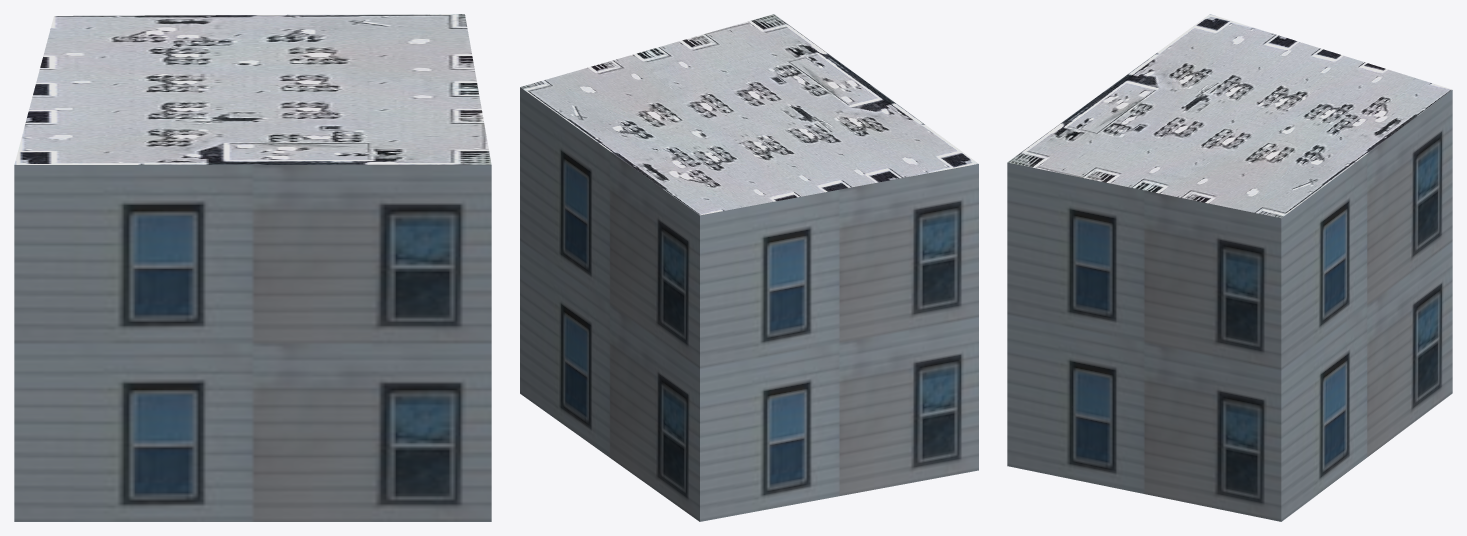
The model's file is ResTex__4553.fbx.
3 renders of one model, left to right at view 1: azimuth 30°, elevation 25°; view 2: azimuth 150°, elevation 25°; view 3: azimuth 270°, elevation 25°, orthographic. The views are drawn at different scales.
Parts seen in each view (by area): view 1: CityEngineMaterial_18_m, CityEngineMaterial_4_m; view 2: CityEngineMaterial_18_m, CityEngineMaterial_4_m; view 3: CityEngineMaterial_18_m, CityEngineMaterial_4_m.
Part boxes in pixels (x1,y1,x2,y2): CityEngineMaterial_18_m: [14, 165, 491, 521]; CityEngineMaterial_4_m: [14, 14, 491, 164]; CityEngineMaterial_18_m: [520, 87, 978, 521]; CityEngineMaterial_4_m: [520, 14, 978, 215]; CityEngineMaterial_18_m: [1007, 90, 1452, 521]; CityEngineMaterial_4_m: [1007, 14, 1452, 218].
Bounding box in the file's own units: 8.66 × 6 × 7.98.
2 materials, 2 textured.
